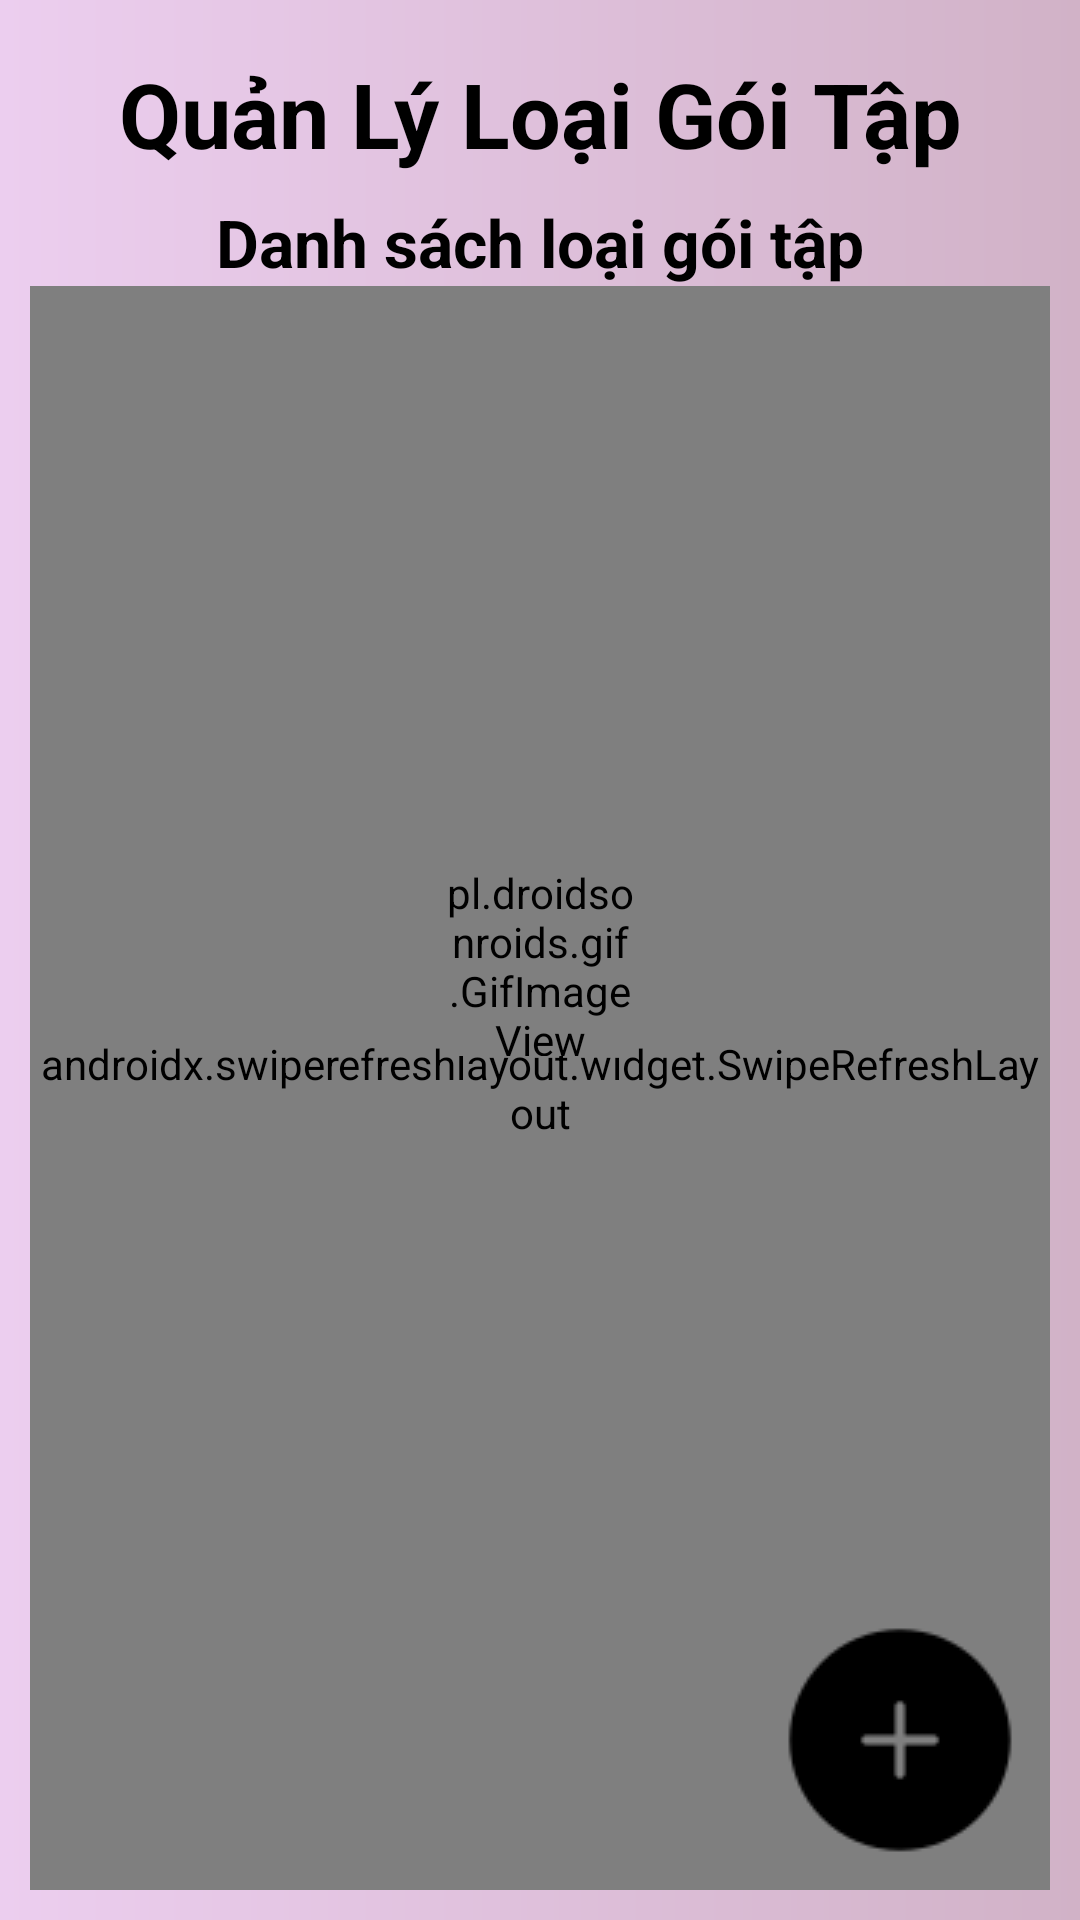

Point at icon controls on the screen. Image size 1080px x 1920px, points as (x=x, y=y).
add: (x=900, y=1740)
